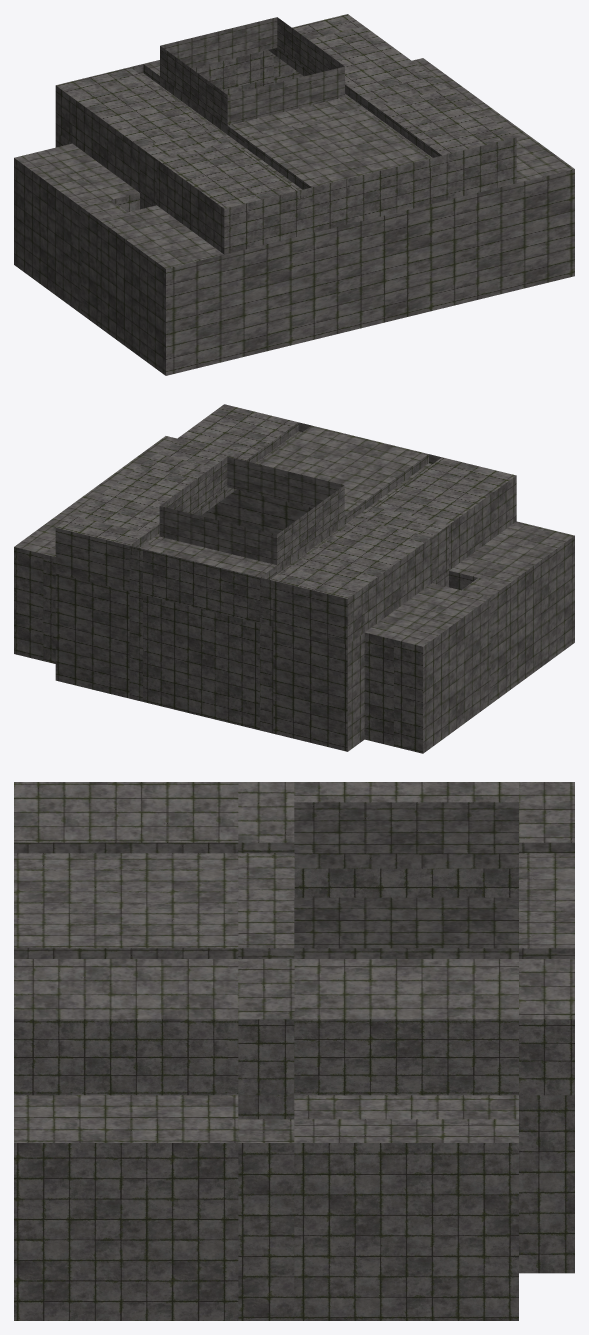
File: vr_room.glb
3 renders of one model, top to bottom at view 1: azimuth 30°, elevation 25°; view 2: azimuth 150°, elevation 25°; view 3: azimuth 270°, elevation 25°, orthographic. The views are drawn at different scales.
Visible parts, largest first — view 1: Cube_0; view 2: Cube_0; view 3: Cube_0.
Boxes of the visible parts, <box> form: Cube_0: <box>14,14,574,375</box>; Cube_0: <box>14,404,574,753</box>; Cube_0: <box>14,782,574,1320</box>.
Bounding box in the file's own units: 14 × 6 × 10.
1 material, 1 textured.
